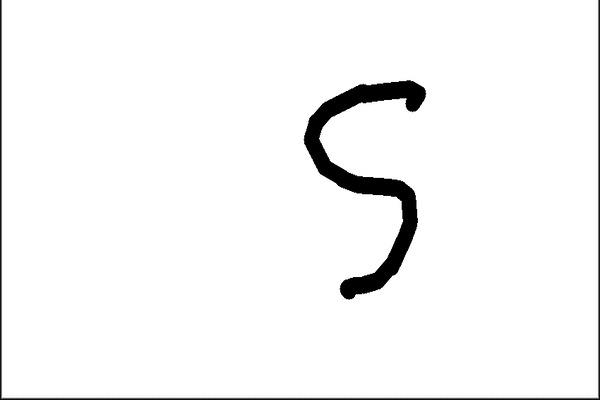S: (298, 75, 431, 304)
